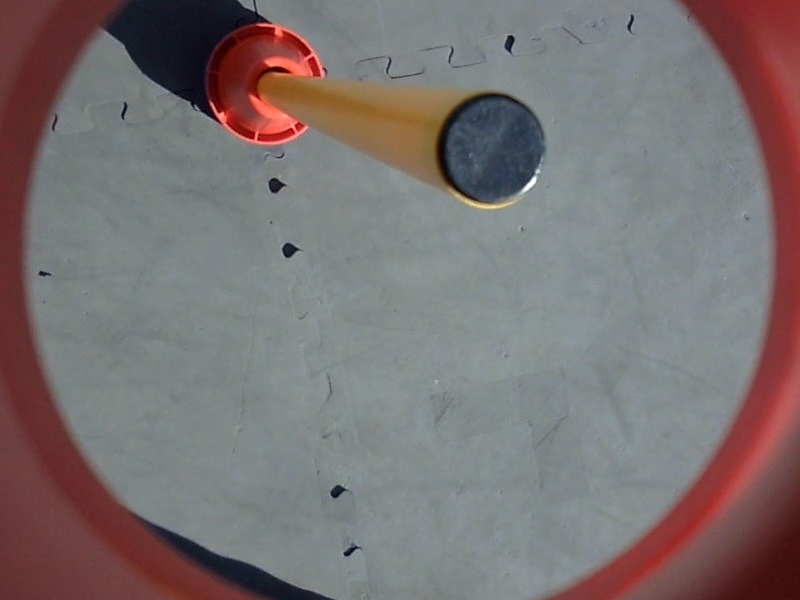tip: (429, 90, 553, 218)
